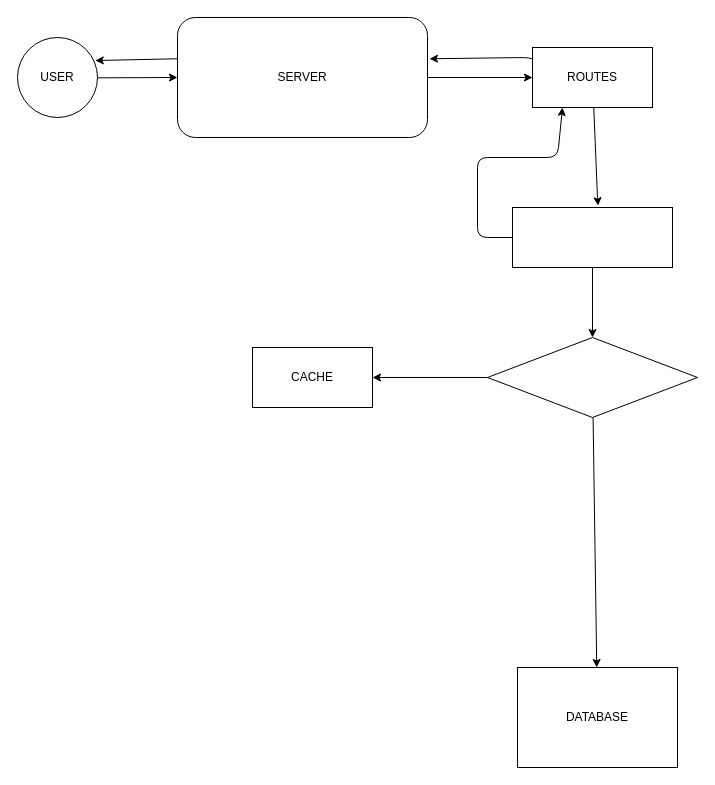
Image size: 715x785. Some labels were removed from this diagram. The shapes that lost their labels are listed below. From the top down, each one's centre as x and y in pixels, then its label:
[592,237]: CONTROLLERS
[592,377]: GET INFO?
